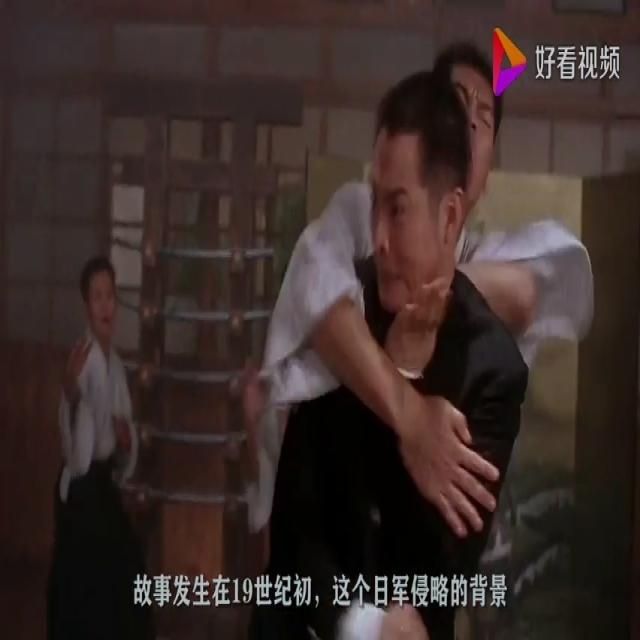fight: (228, 33, 601, 640)
non-fight: (42, 236, 156, 640)
